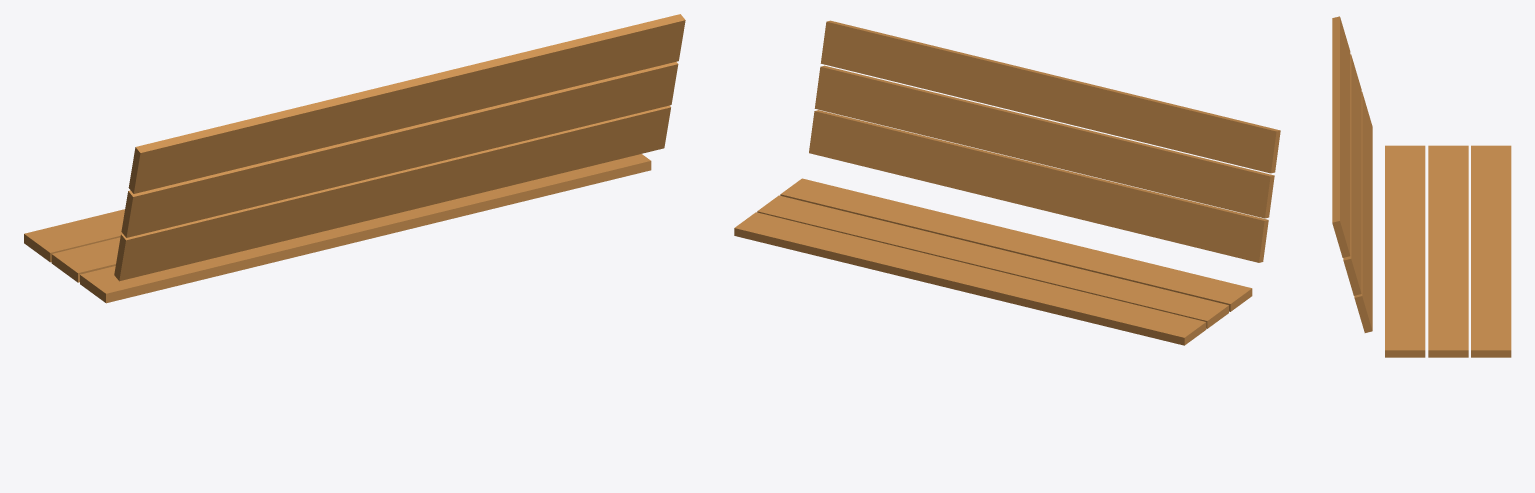
File: bench.fbx
3 views of the same model, side by side, from view 1: azimuth 30°, elevation 25°; view 2: azimuth 150°, elevation 25°; view 3: azimuth 270°, elevation 25° (orthographic). The views are drawn at different scales.
Visible parts, largest first — view 1: Box019; view 2: Box019; view 3: Box019.
Boxes of the visible parts, bbox=[...] form: Box019: bbox=[24, 14, 685, 303]; Box019: bbox=[734, 20, 1280, 345]; Box019: bbox=[1332, 16, 1511, 357].
Bounding box in the file's own units: 142 × 82.07 × 58.13.
